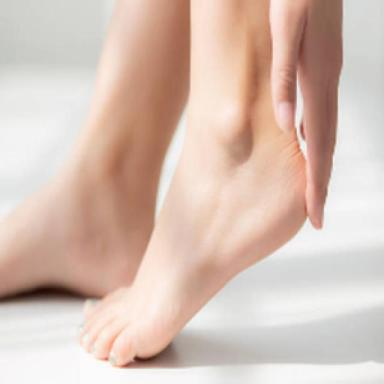normal skin: (0, 0, 342, 365)
